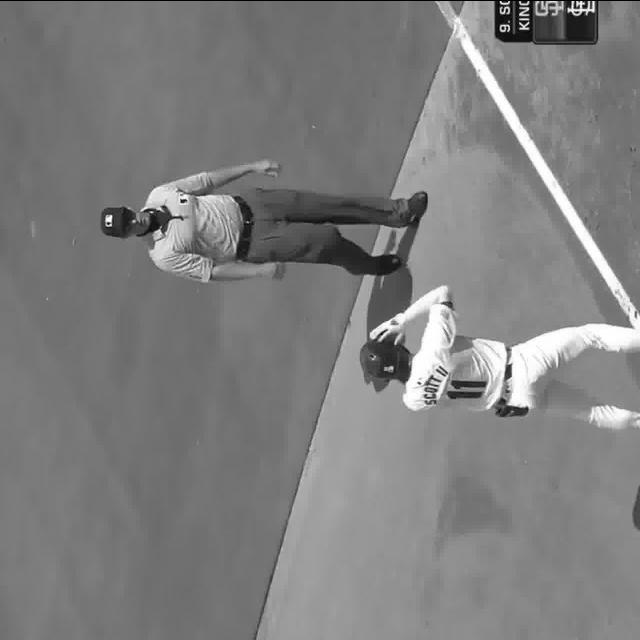shoe: (356, 246, 406, 276), (394, 191, 426, 227)
